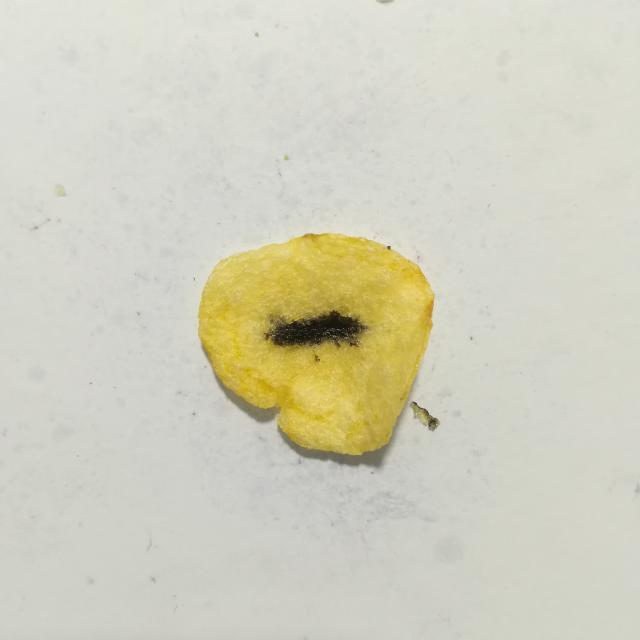chip: (198, 234, 434, 455)
damaged: (265, 311, 366, 346)
semi-damaged: (265, 314, 289, 333), (315, 354, 320, 362)
